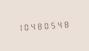eight: (66, 18, 72, 29), (38, 20, 44, 30)
five: (52, 19, 58, 30)
four: (31, 20, 37, 31), (59, 18, 65, 29)
one: (17, 21, 23, 32)
zero: (45, 19, 51, 30), (24, 21, 30, 31)
